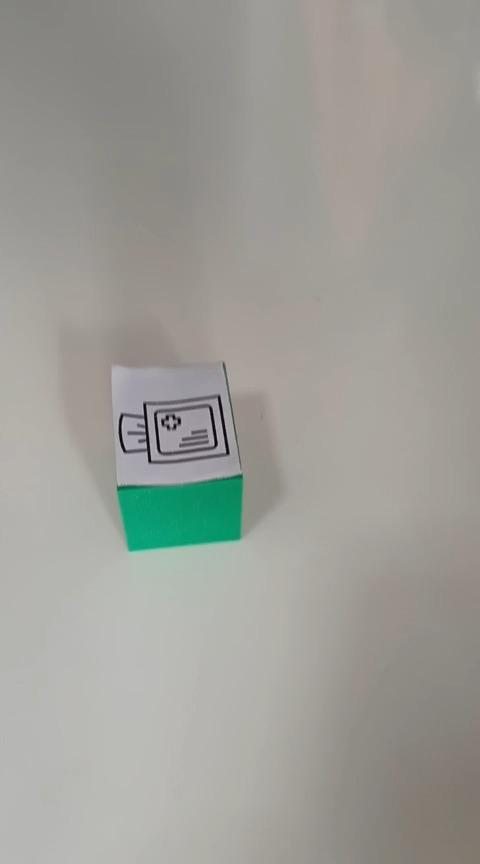Gauze: (109, 359, 244, 552)
